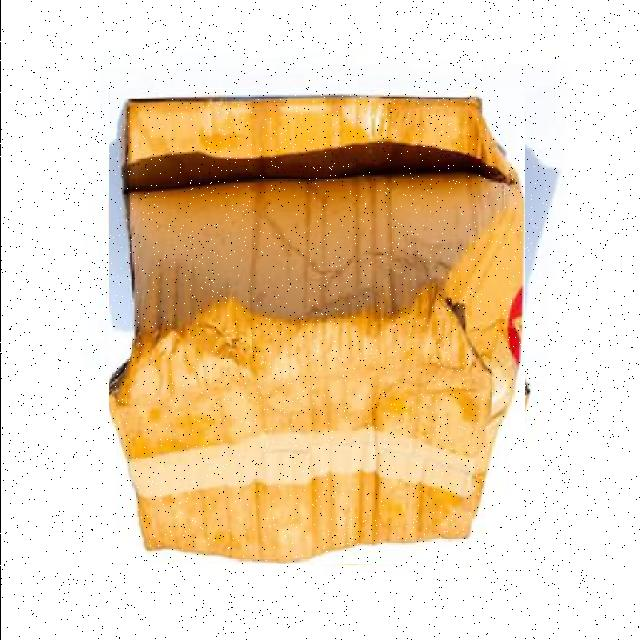defect: (108, 88, 524, 564)
